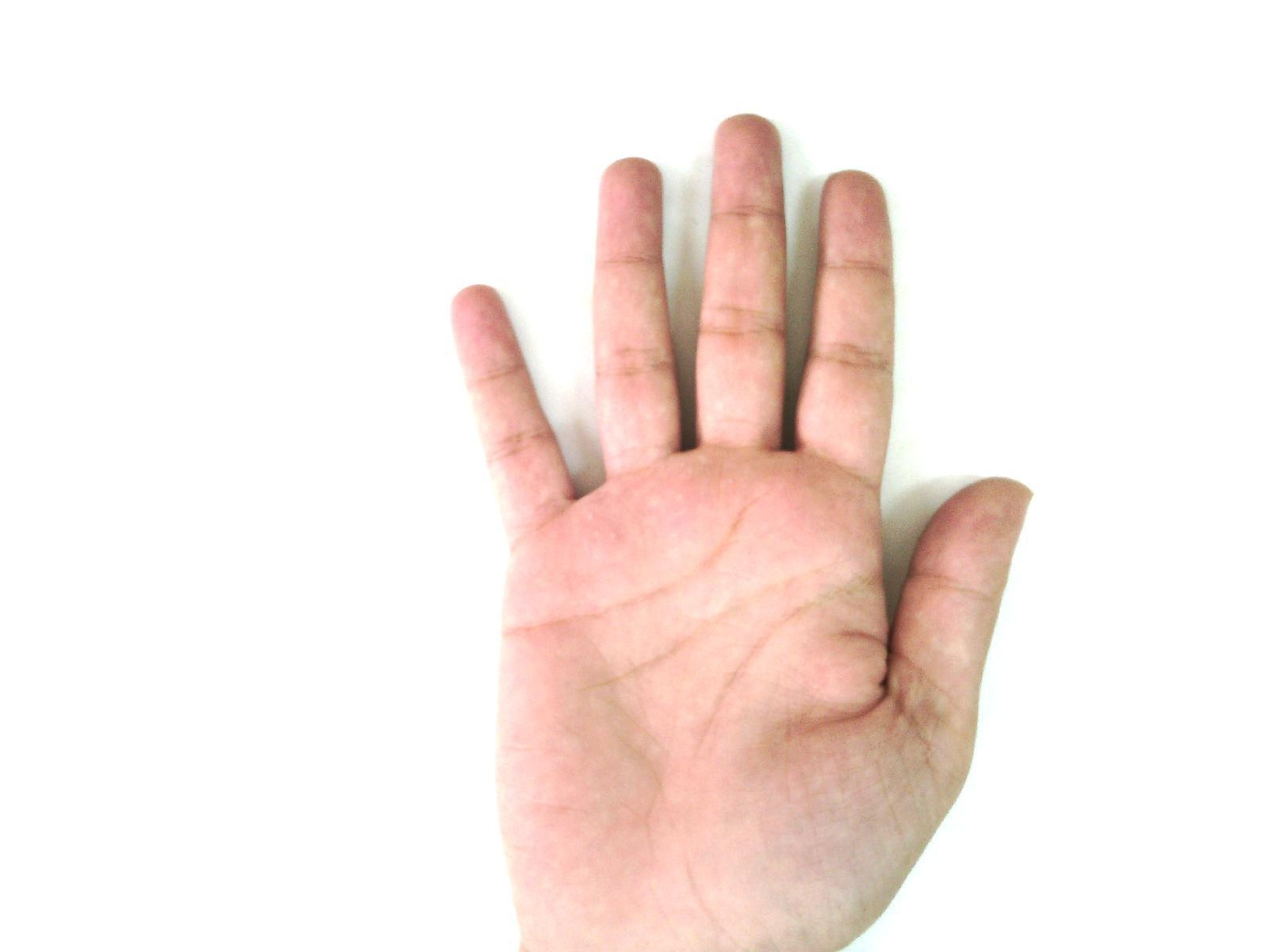open_palm: (447, 113, 1035, 951)
